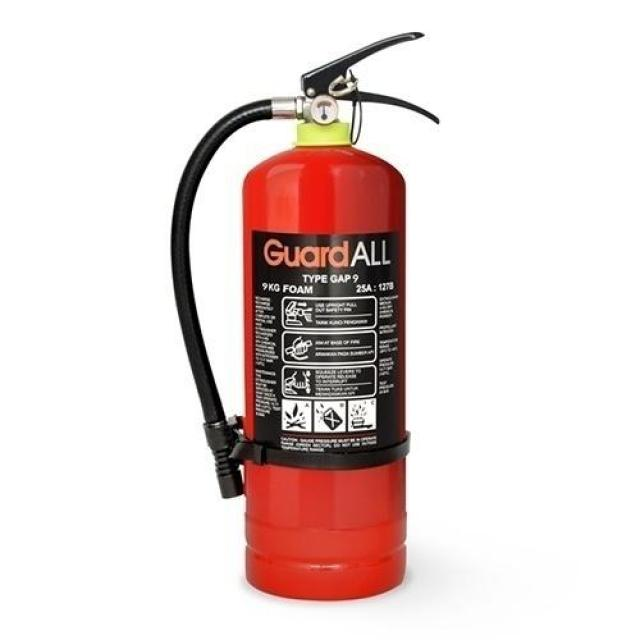fire_extinguisher: (161, 28, 444, 611)
